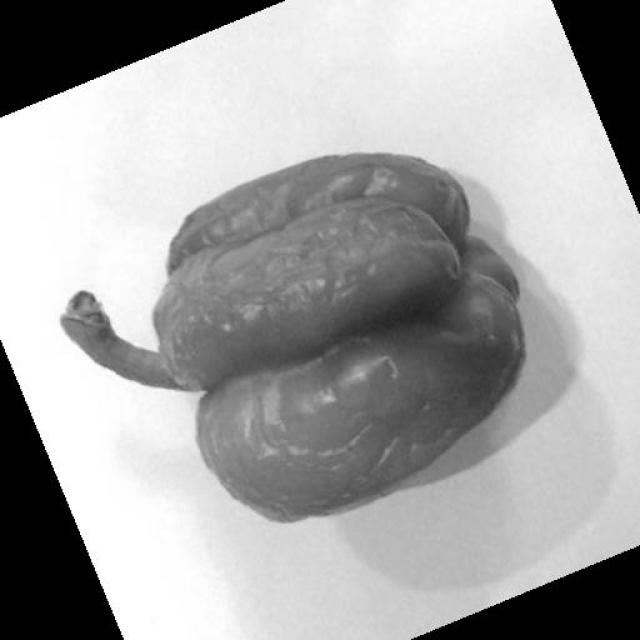Stale_Capsicum: (60, 156, 521, 512)
